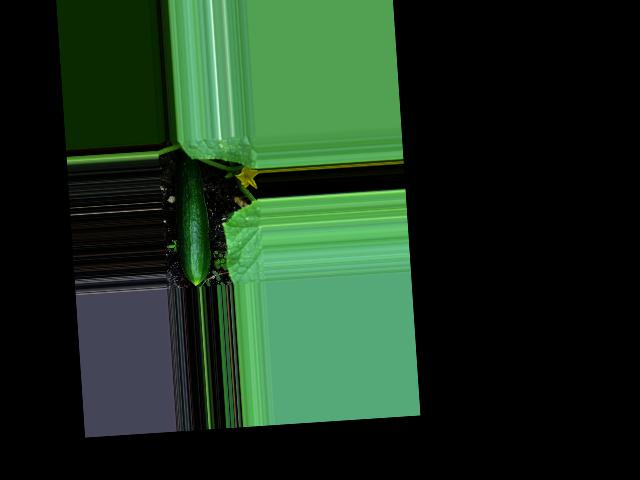cucumber: (171, 151, 212, 287)
